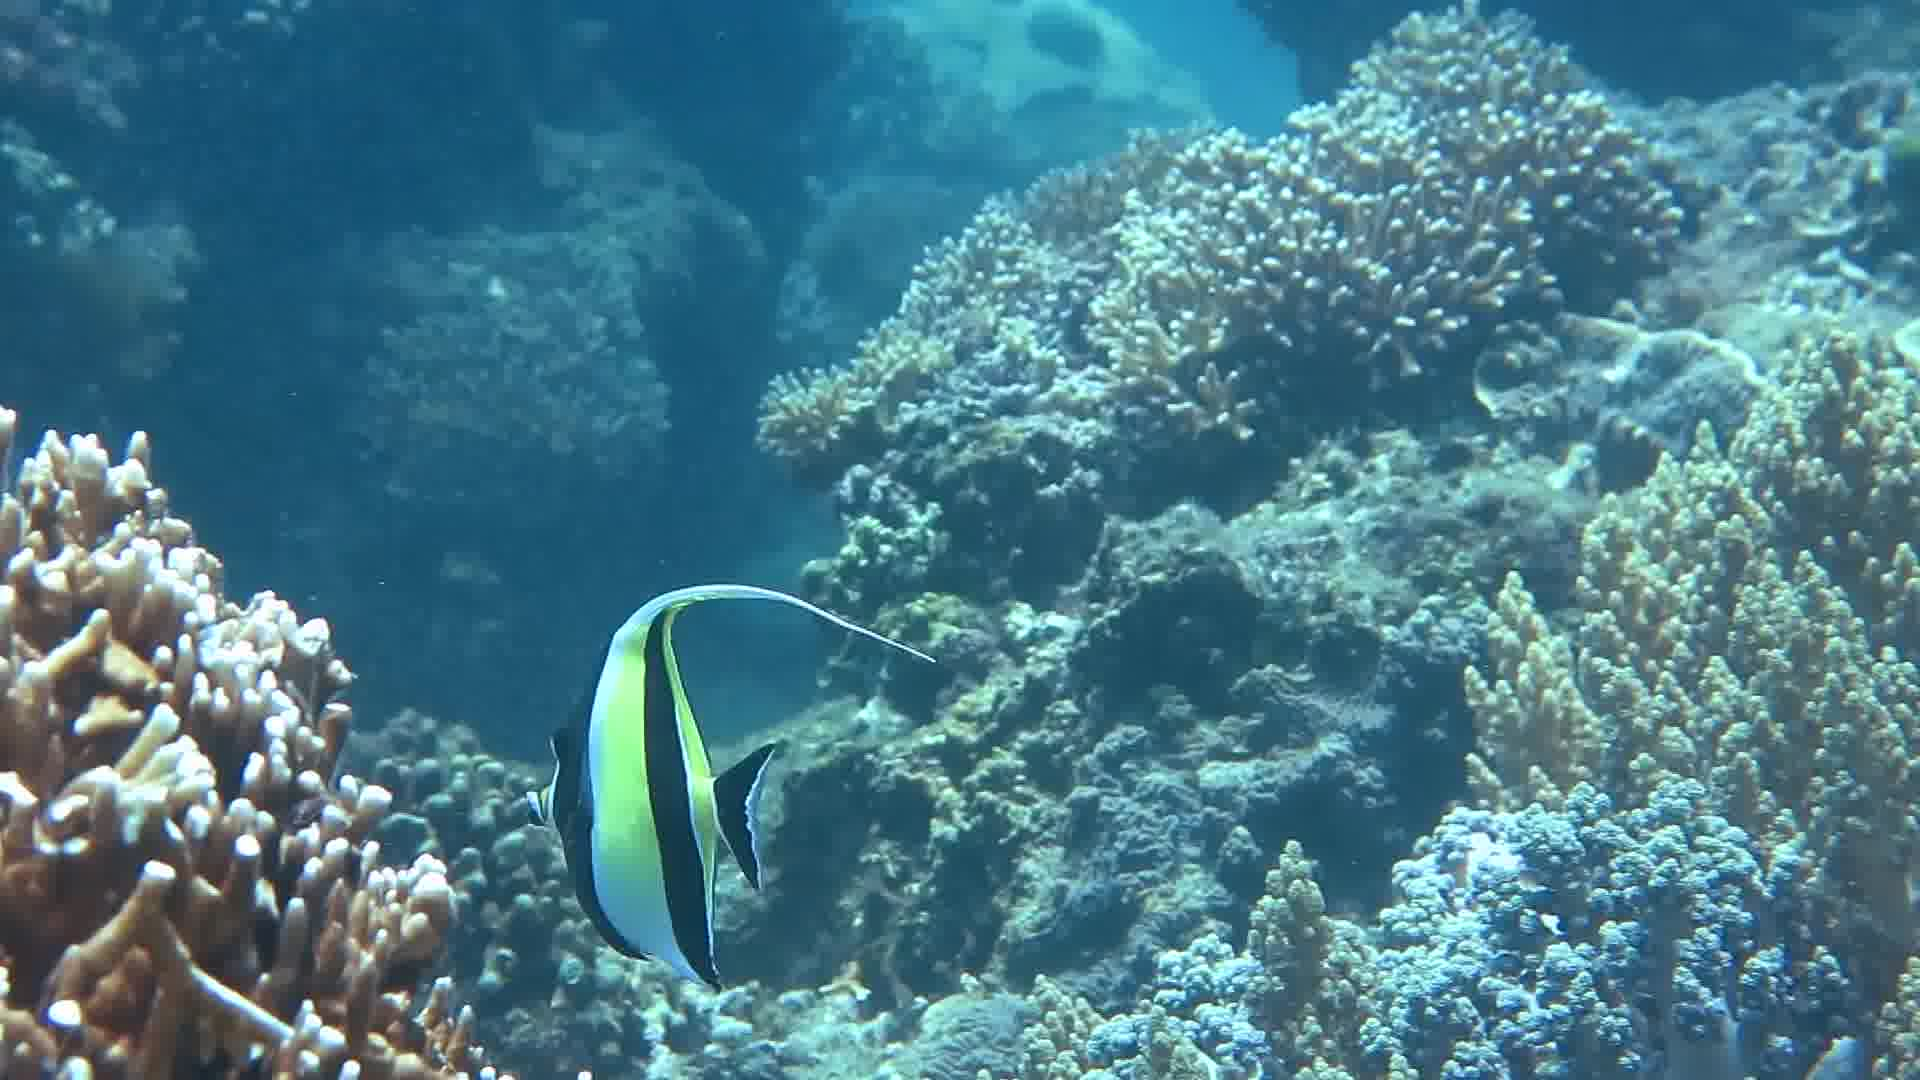Zanclus cornutus: (510, 568, 851, 1000)
